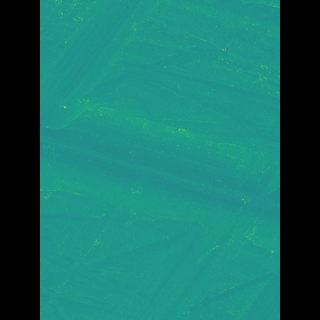Loch: (140, 145, 251, 319), (68, 0, 164, 124)
